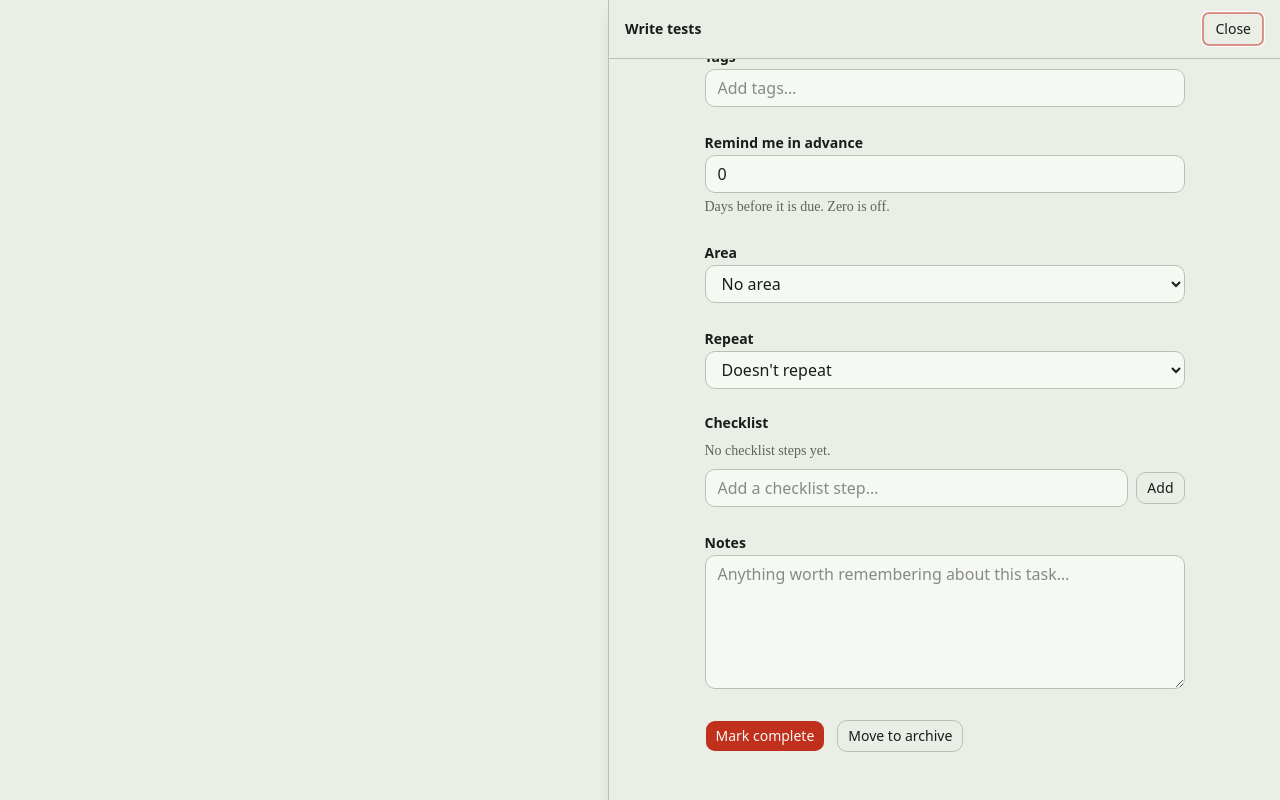
Scenario: TaskDetailRoute › adds a checklist step under the current task
The width and height of the screenshot is (1280, 800).
(page scrolled)
Type "Book flights" into the field named "New checklist step" at (916, 488), box [704,469,1128,507]
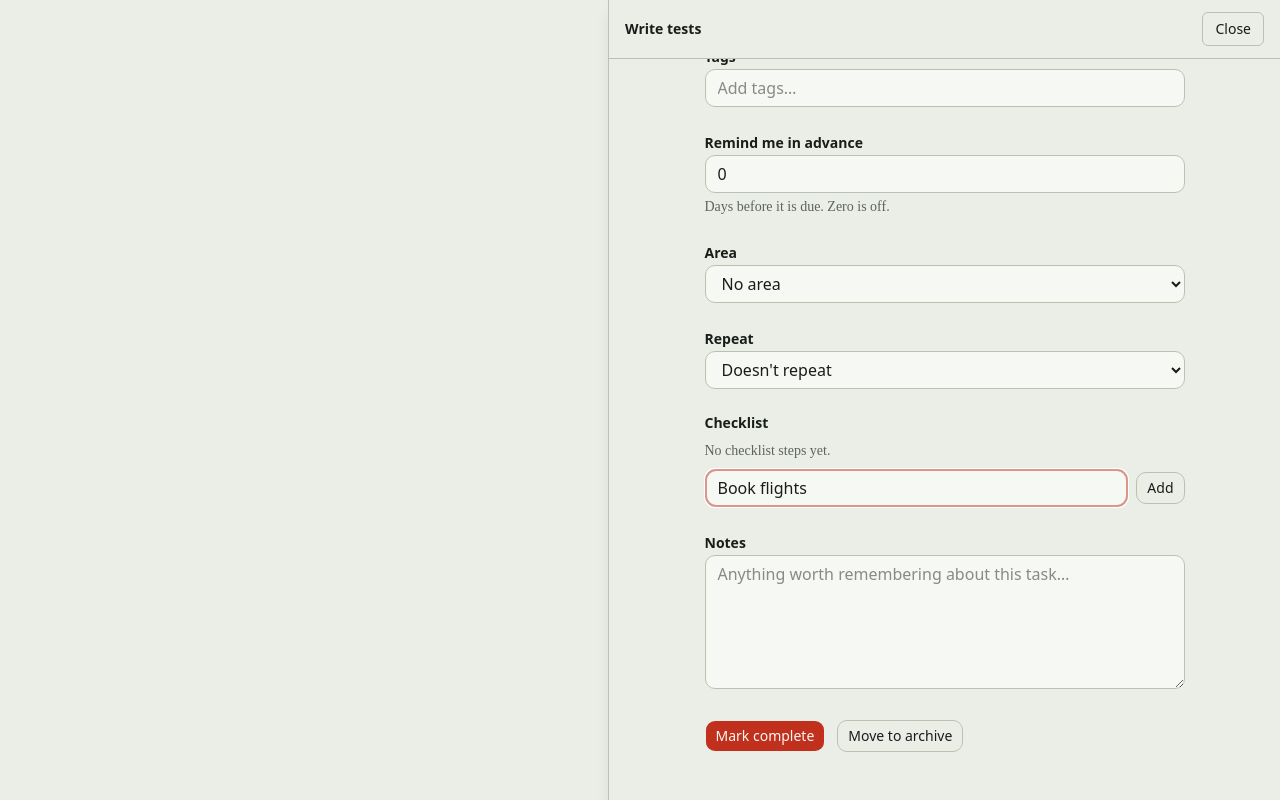
Click the button "Add" at (1160, 488), box [1136,472,1184,504]
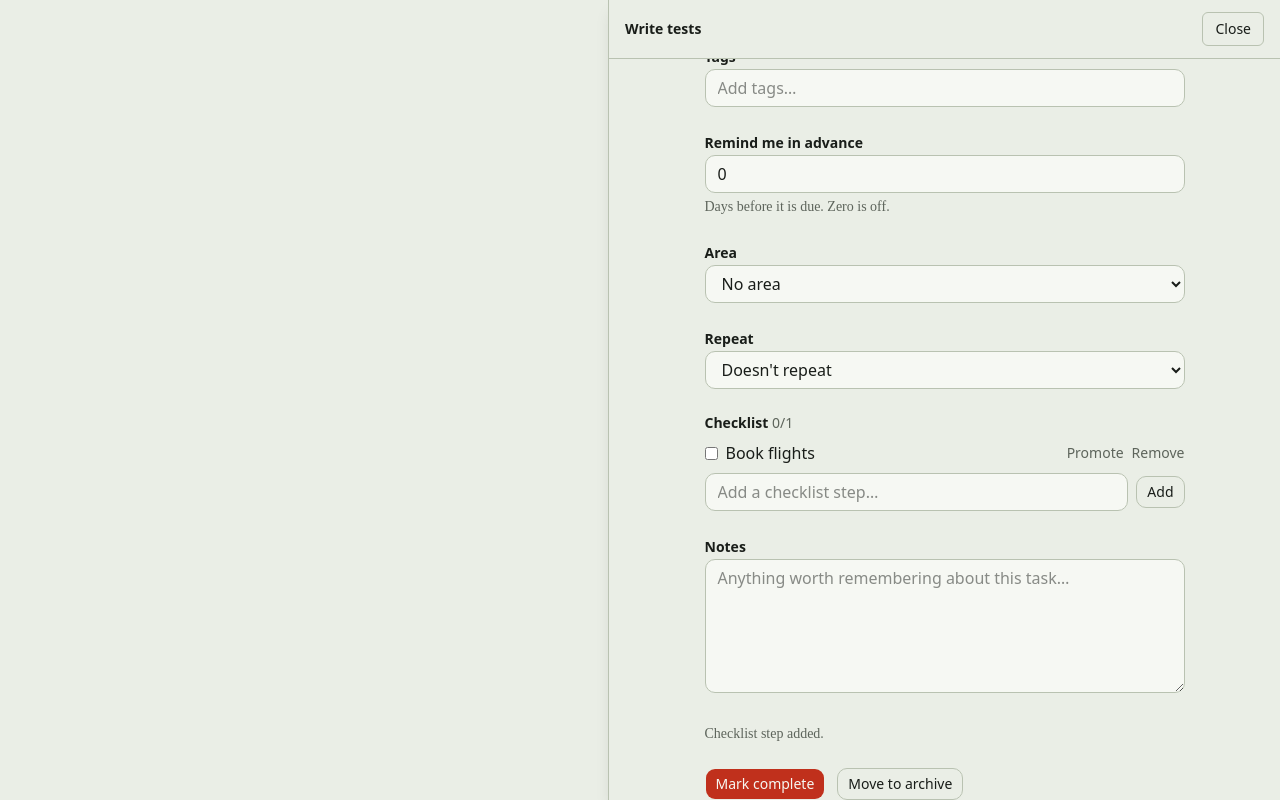
Result: the text "Checklist step added." is shown at [704,726,824,741]
